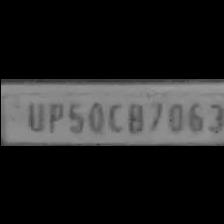0: (162, 97, 186, 132), (84, 97, 104, 132)
3: (205, 96, 223, 132)
5: (64, 96, 84, 134)
6: (183, 97, 205, 132)
7: (144, 97, 164, 132)
C: (104, 96, 124, 134)
P: (43, 99, 63, 134)
U: (20, 97, 43, 131)
